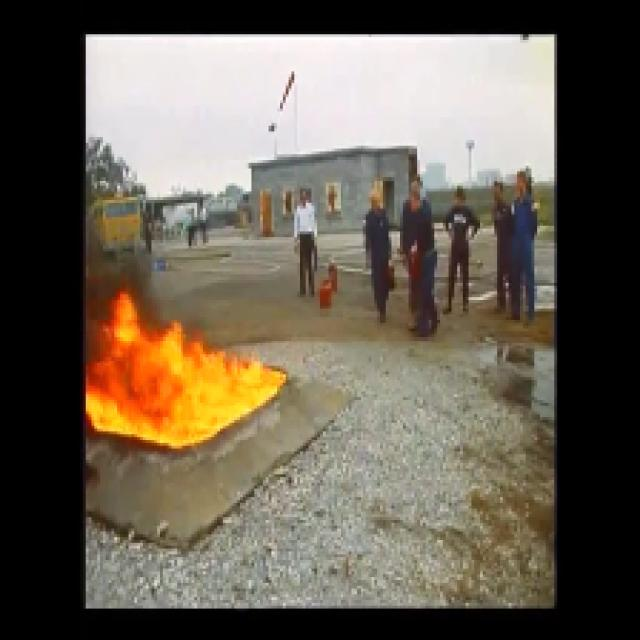fire: (89, 302, 269, 442)
